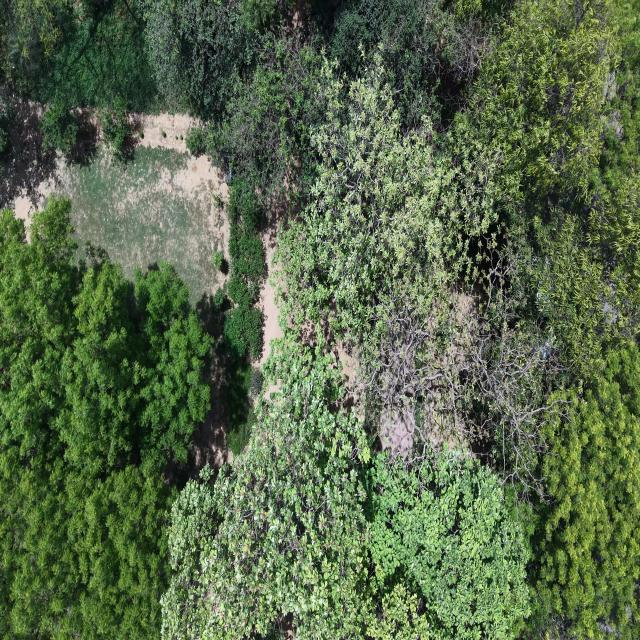DRY_AREA: (0, 103, 228, 302), (0, 104, 228, 301), (6, 114, 228, 301)
VEGETATION_TREE: (0, 0, 639, 639), (279, 2, 639, 637), (280, 2, 638, 362), (163, 339, 528, 638), (0, 199, 210, 638), (458, 2, 639, 377), (278, 58, 497, 344), (163, 344, 370, 637), (449, 0, 614, 214), (534, 344, 639, 637), (368, 451, 529, 638), (0, 0, 159, 155), (319, 0, 505, 126), (207, 27, 326, 206), (0, 0, 158, 111), (144, 0, 290, 120), (143, 0, 253, 116), (224, 180, 266, 359), (227, 180, 265, 295), (225, 359, 261, 455), (367, 585, 430, 639), (40, 94, 78, 154), (101, 96, 132, 158), (0, 80, 14, 154), (185, 127, 206, 156), (212, 251, 225, 271), (139, 131, 143, 139), (161, 131, 166, 137)
